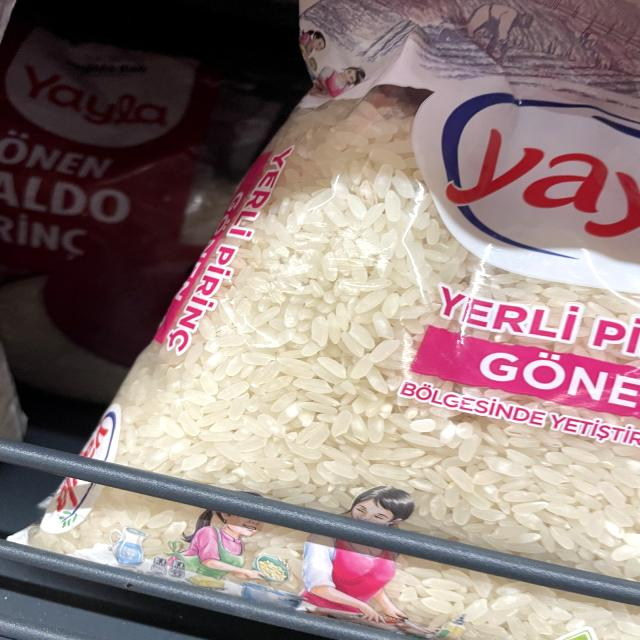rice: (270, 224, 390, 431)
